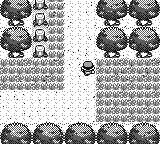captura: (1, 0, 64, 90), (96, 59, 160, 122)
main: (80, 61, 95, 75)
no-caminable: (97, 1, 160, 58), (1, 124, 160, 143), (1, 0, 32, 57), (32, 0, 49, 57)
